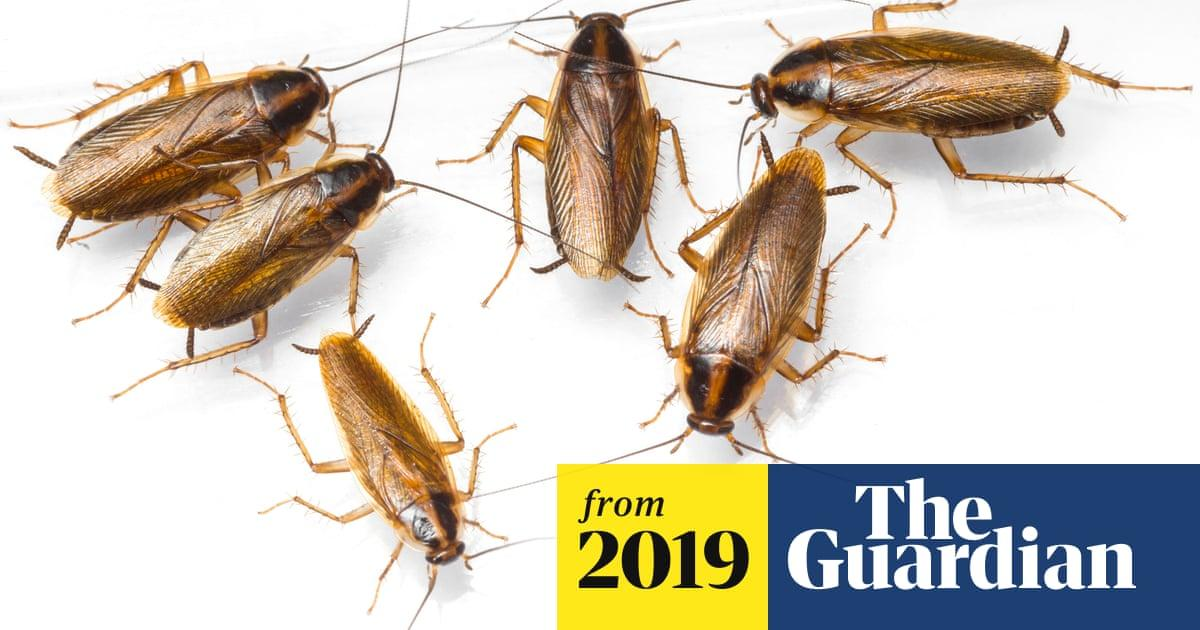cockroach: (733, 13, 1079, 162), (669, 140, 829, 438), (49, 57, 330, 226), (306, 316, 480, 571), (158, 148, 394, 332), (514, 9, 669, 280)
